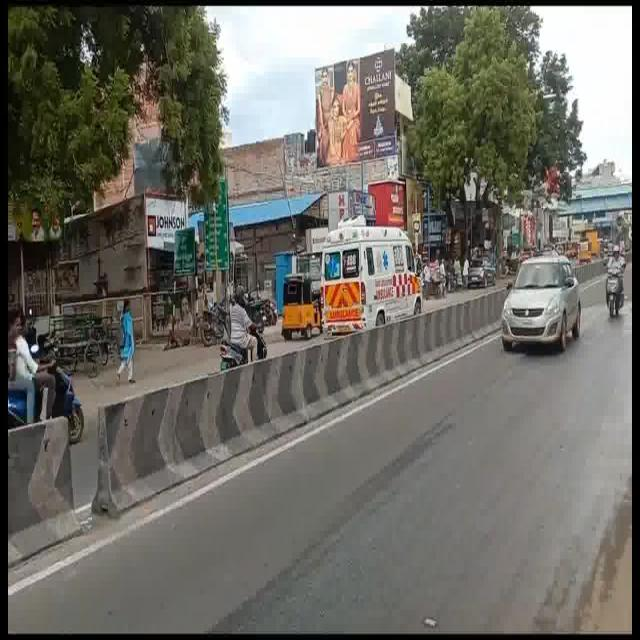ambulance: (318, 205, 424, 347)
